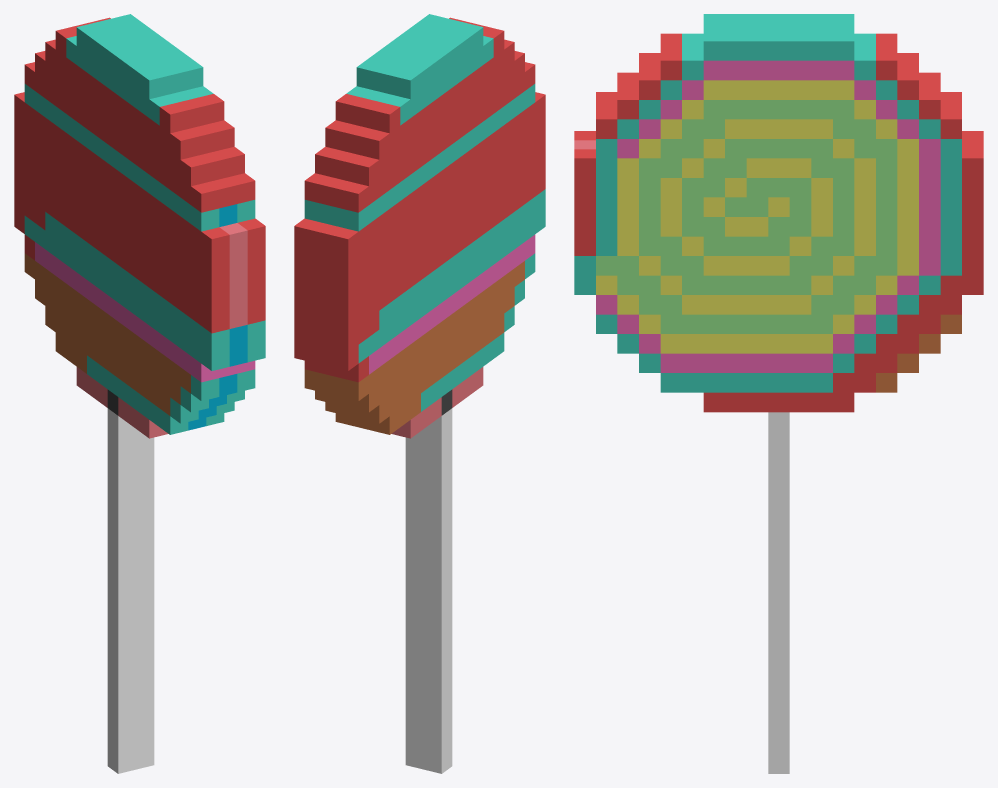
Rendered from Eruption-39.obj.
3 renders of one model, left to right at view 1: azimuth 30°, elevation 25°; view 2: azimuth 150°, elevation 25°; view 3: azimuth 270°, elevation 25°, orthographic. The views are drawn at different scales.
Size of the model in its own units: 0.3 by 3.8 by 1.9.
1 material, 1 textured.
